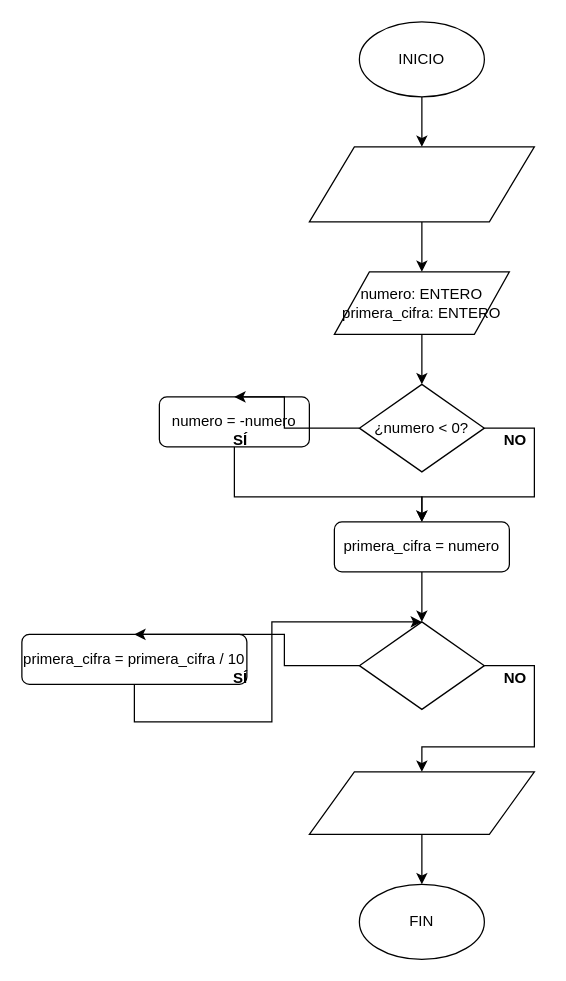
Some shapes in this 566 by 981 pixel diagram are drawn without their labels. The shapes that lost their labels are listed below. From the top down, each one's box as (x1, y1, x2, y2) in pixels, then its label:
(308, 146, 534, 222): ESCRIBIR: "Ingrese un número entero" LEER: numero
(358, 621, 484, 709): ¿primera_cifra >= 10?
(308, 771, 534, 834): ESCRIBIR: "La primera cifra es: " + primera_cifra
